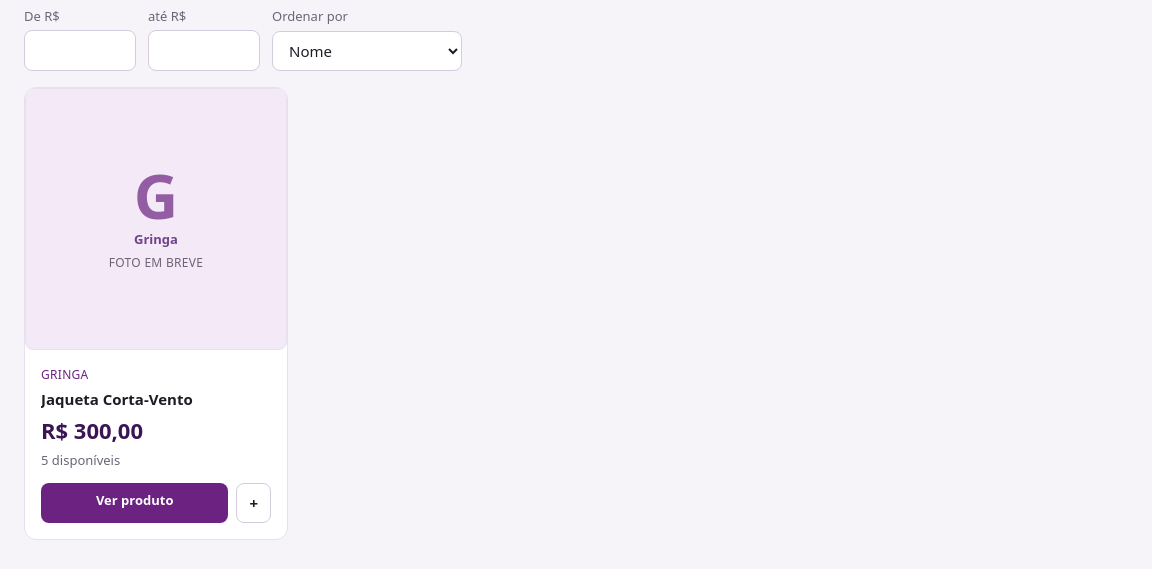
Test: com conta (GAP-PRD-043) › finalizar leva o token do portal, sem e-mail digitado, e usa o endereço salvo
The image size is (1152, 569).
(page scrolled)
expect the text "Jaqueta Corta-Vento" is shown: met, box [41,388,193,408]
Click the button "+".
click(254, 503)  # box [236,482,271,523]
(page scrolled)
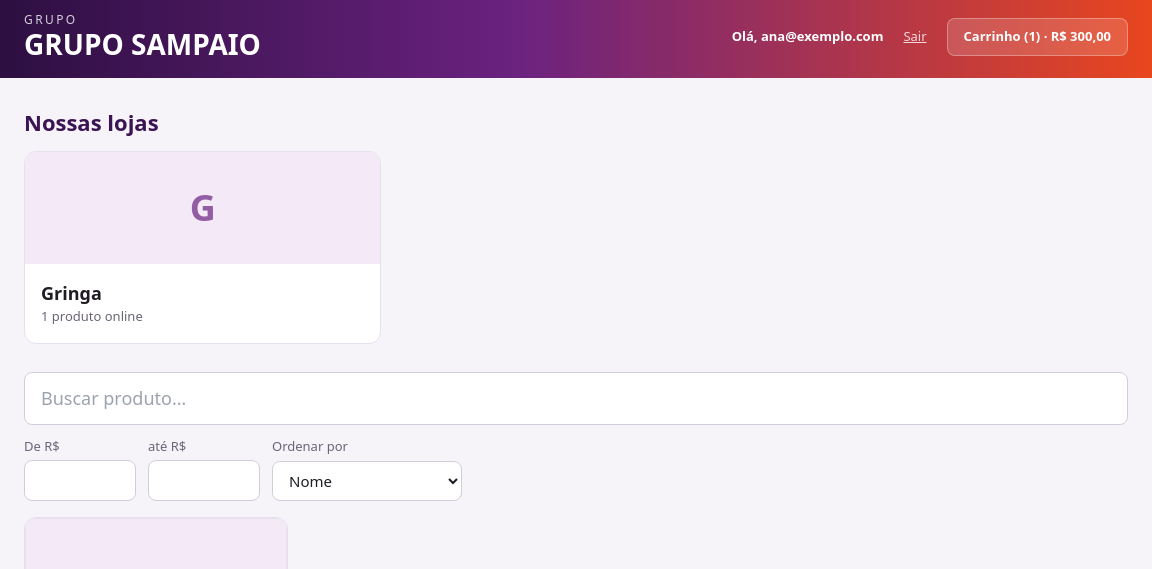
Click the button "Carrinho (1) · R$ 300,00".
click(1037, 37)  # box [947,18,1128,56]
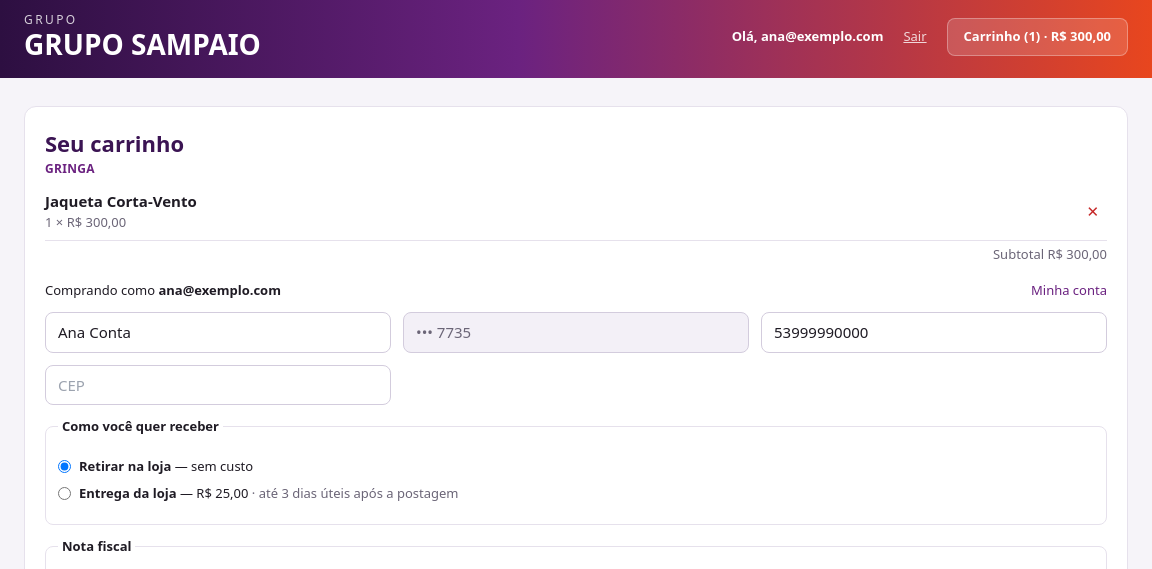
expect the text "Retirar na loja" is shown: met, box [79,456,171,474]
expect the field named "nome" holds "Ana Conta": met, box [45,312,391,352]
Click the radio button labelled "Entrega da loja".
click(64, 494)  # box [58,487,71,500]
(page scrolled)
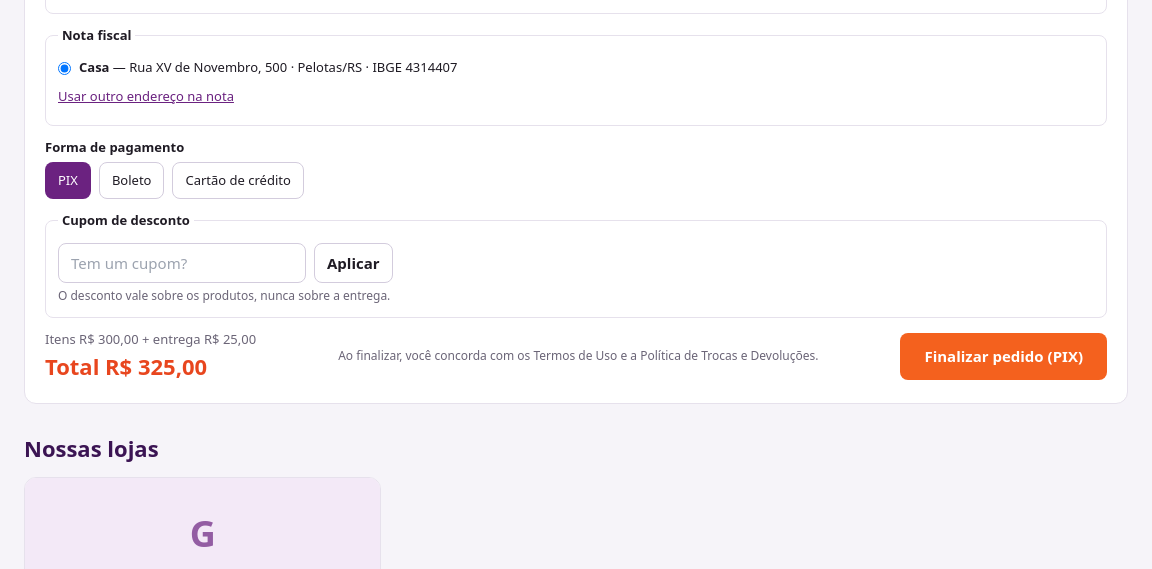
Click the button "Finalizar pedido (PIX)".
click(1004, 356)  # box [900,333,1107,380]
(page scrolled)
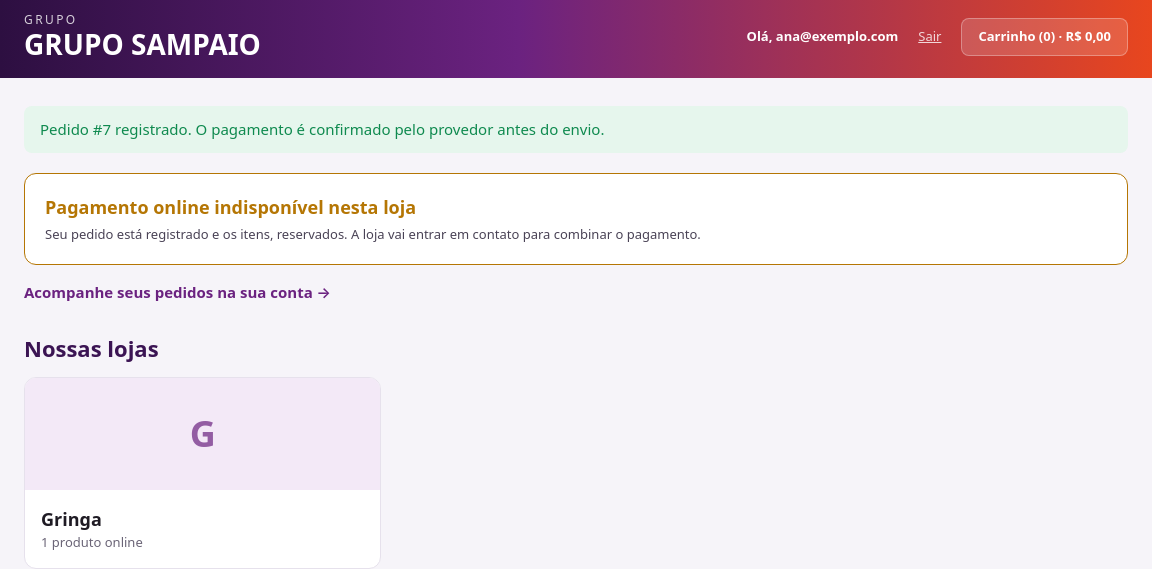
expect the text "Pedido #7 registrado. O pagamento é confirmado pelo provedor antes do envio." is shown: met, box [24,106,1128,152]
